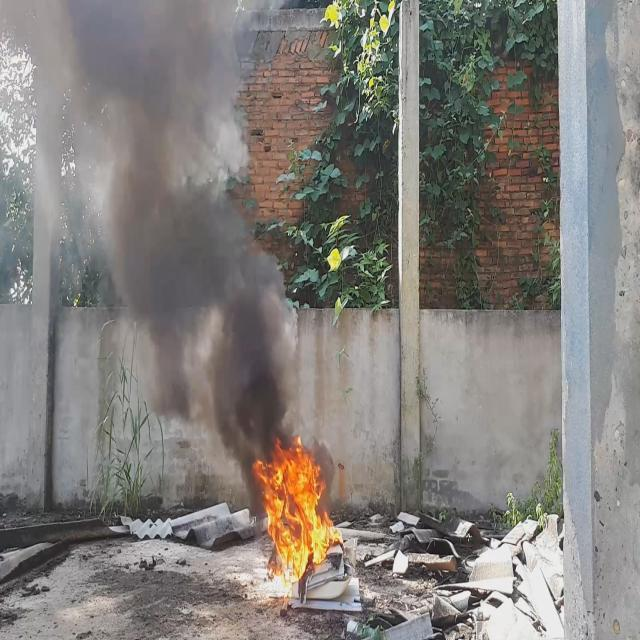Fire: (250, 436, 340, 584)
Smoke: (0, 0, 335, 515)
